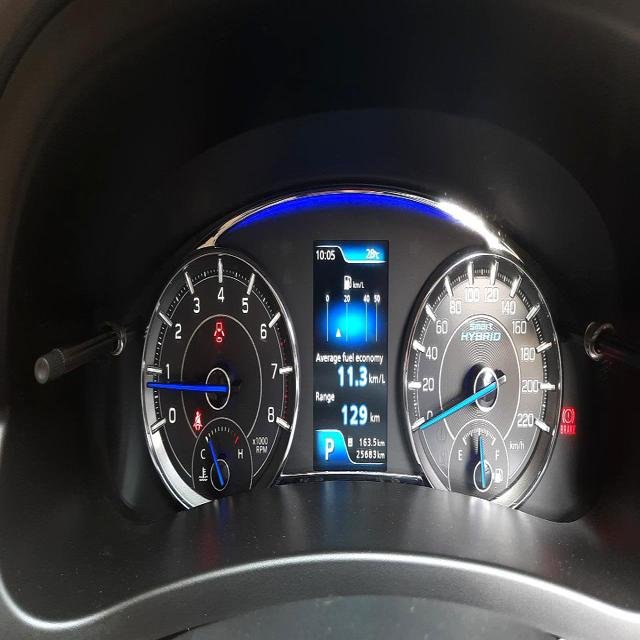odometer: (354, 447, 376, 461)
